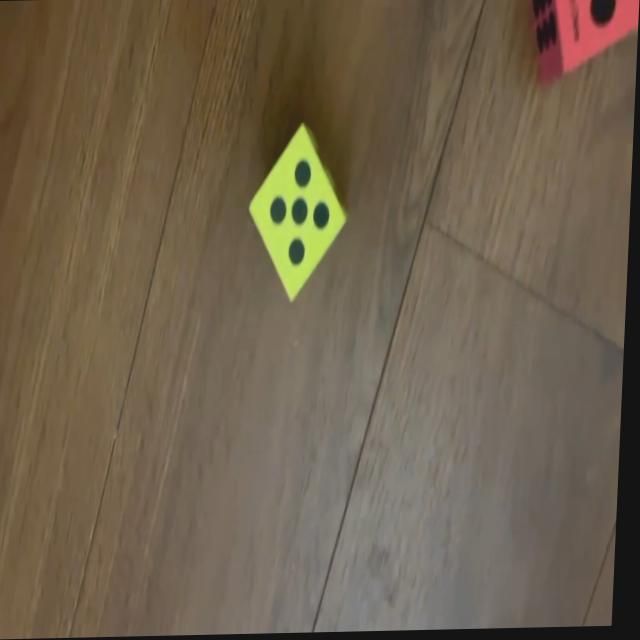red_block: (528, 0, 640, 87)
